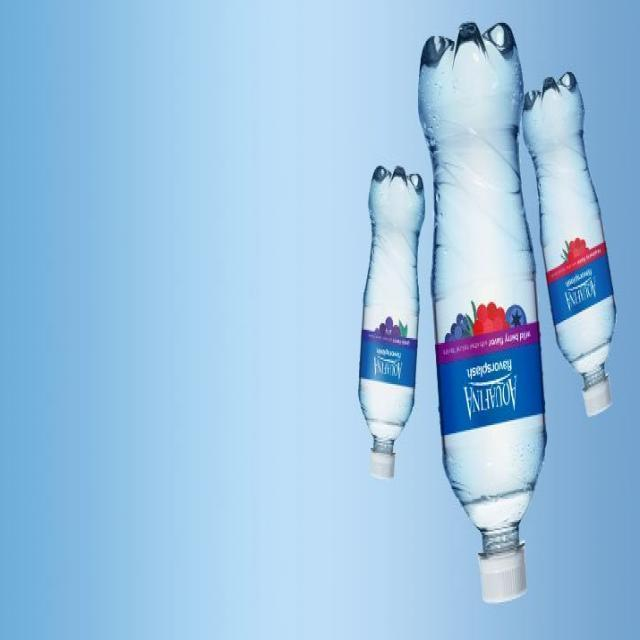plastic_bottle: (418, 21, 547, 603), (522, 72, 616, 418), (358, 165, 426, 480)
